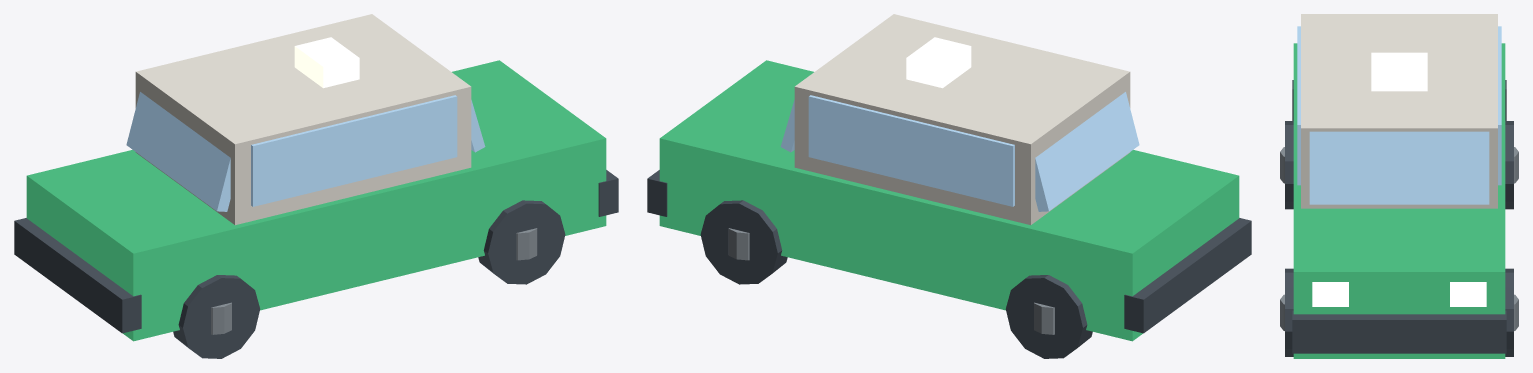
File: veh_taxi.glb
The picture shows the model from 3 angles, left to right: view 1: azimuth 30°, elevation 25°; view 2: azimuth 150°, elevation 25°; view 3: azimuth 270°, elevation 25°; orthographic projection.
Visible parts, largest first — view 1: body.052, cabin.002, side_win.010, rear_glass.002, bumper.008, wheel.054, wheel.056, roof_sign.002, bumper.007, hub.028, hub.030; view 2: body.052, cabin.002, side_win.011, rear_glass.002, bumper.008, wheel.055, wheel.057, roof_sign.002, bumper.007, hub.029, hub.031; view 3: body.052, cabin.002, windshield.007, bumper.007, roof_sign.002, headlight.012, headlight.013, wheel.056, wheel.057, wheel.054, wheel.055, side_win.010 (+1 smaller).
Boxes of the visible parts, <box> form: body.052: <box>26,60,606,341</box>; cabin.002: <box>135,14,471,225</box>; side_win.010: <box>251,95,457,206</box>; rear_glass.002: <box>126,92,230,211</box>; bumper.008: <box>14,218,141,333</box>; wheel.054: <box>478,200,565,284</box>; wheel.056: <box>173,275,260,358</box>; roof_sign.002: <box>294,37,359,88</box>; bumper.007: <box>598,170,618,216</box>; hub.028: <box>516,228,537,260</box>; hub.030: <box>211,302,231,334</box>; body.052: <box>659,60,1239,341</box>; cabin.002: <box>794,14,1130,225</box>; side_win.011: <box>808,95,1014,206</box>; rear_glass.002: <box>1035,92,1139,211</box>; bumper.008: <box>1124,218,1251,333</box>; wheel.055: <box>700,200,787,284</box>; wheel.057: <box>1005,275,1092,358</box>; roof_sign.002: <box>906,37,971,88</box>; bumper.007: <box>647,170,667,216</box>; hub.029: <box>728,228,749,260</box>; hub.031: <box>1034,302,1054,334</box>; body.052: <box>1293,43,1505,358</box>; cabin.002: <box>1301,14,1497,208</box>; windshield.007: <box>1309,131,1489,204</box>; bumper.007: <box>1292,310,1506,353</box>; roof_sign.002: <box>1371,52,1427,91</box>; headlight.012: <box>1312,282,1348,306</box>; headlight.013: <box>1450,282,1486,306</box>; wheel.056: <box>1285,121,1293,209</box>; wheel.057: <box>1505,121,1513,209</box>; wheel.054: <box>1285,268,1293,356</box>; wheel.055: <box>1505,268,1513,356</box>; side_win.010: <box>1297,26,1300,185</box>.
Size of the model in its own units: 4.62 by 2 by 1.94.
